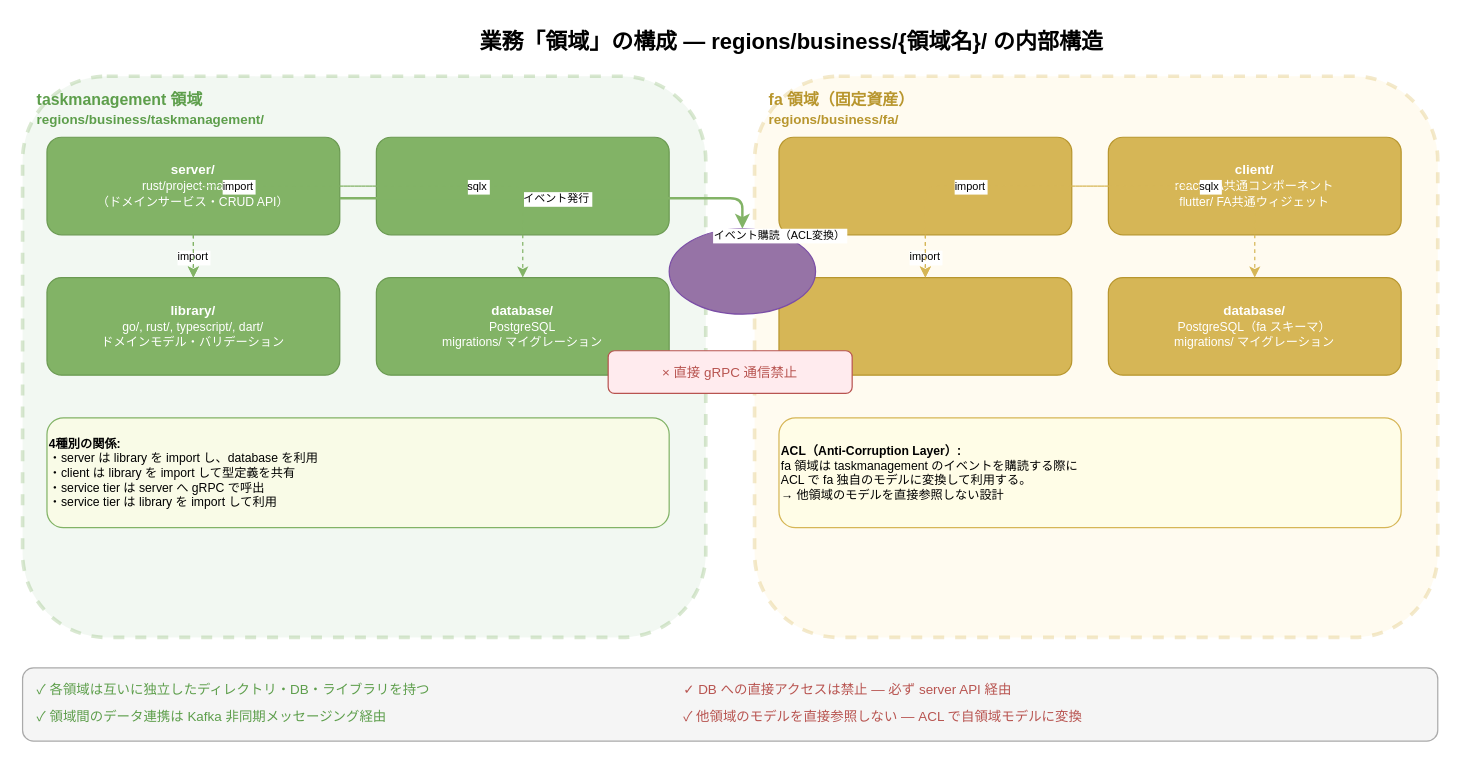
This 1484x763 diagram has some shape labels left out. Each missing label, with the centre of its shape:
"client/ react/ 共通コンポーネント flutter/ 共通ウィジェット" belongs at pixel 522 185.
"Kafka k1s0.business.*.*.v1" belongs at pixel 742 271.
"library/ go/, rust/, typescript/, dart/ 固定資産モデル・計算ロジック" belongs at pixel 925 325.
"server/ rust/fa-server （固定資産ドメインサービス）" belongs at pixel 925 185.
